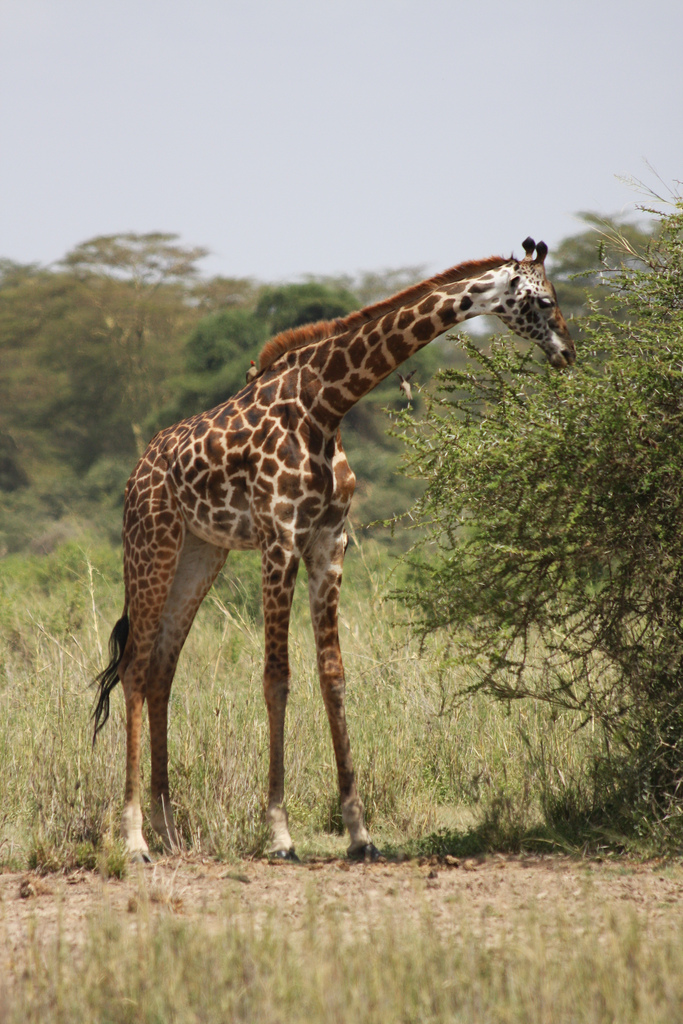giraffe: (58, 204, 579, 895)
